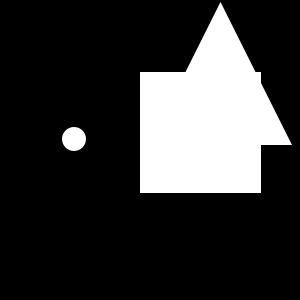circle: (140, 72, 261, 193)
rectangle: (62, 127, 86, 151)
triangle: (149, 2, 292, 145)
